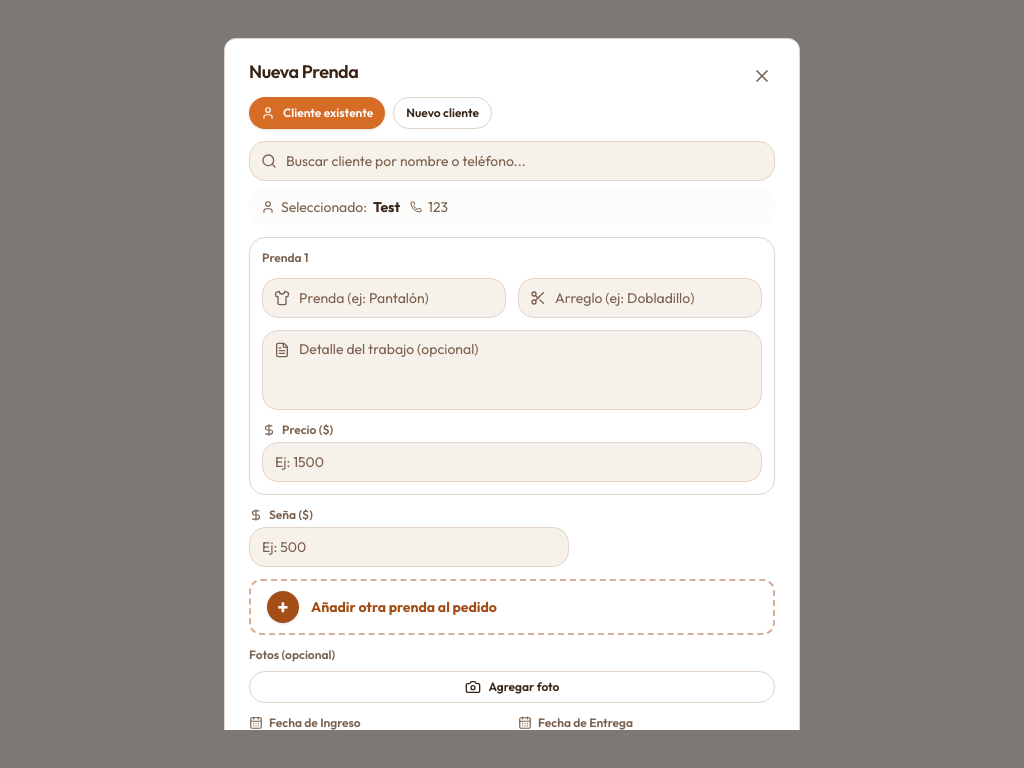
Test case: GarmentModal › [BUG3] sugerencias aparecen en la segunda prenda después de añadir prenda
The width and height of the screenshot is (1024, 768).
Note: Añadir segunda prenda
Click the button "+ Añadir otra prenda al pedido": [283, 607] box x1=249 y1=579 x2=775 y2=635
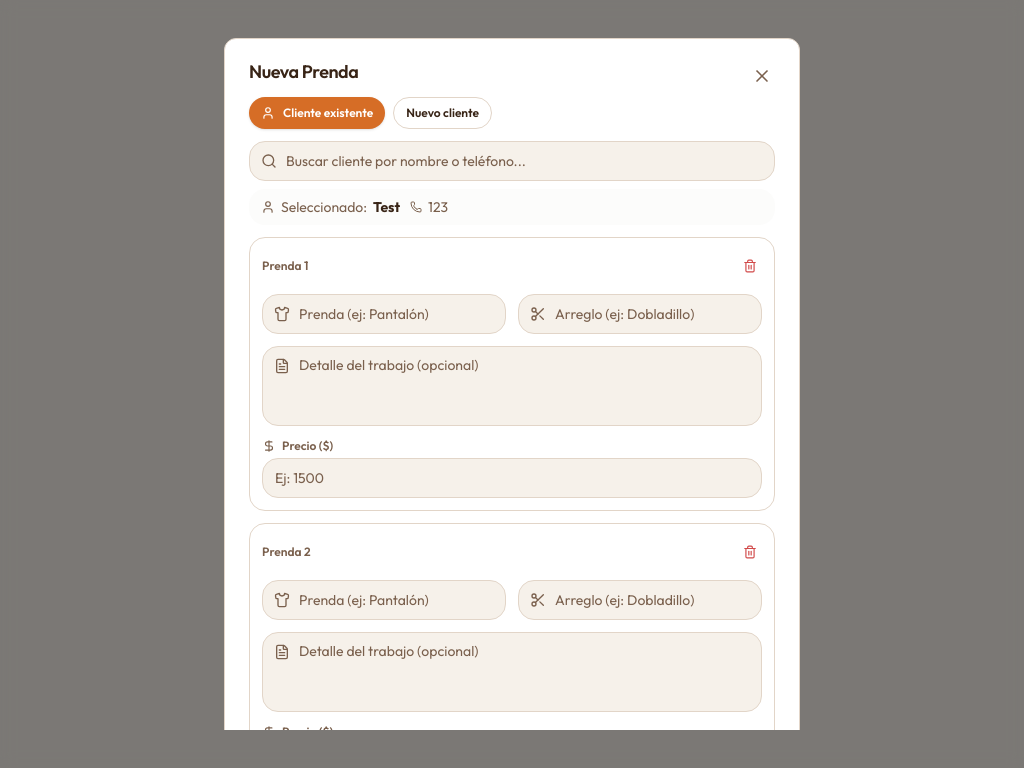
Result: the number of fields with placeholder "Prenda (ej: Pantalón)" is 2
In the 2nd field with placeholder "Prenda (ej: Pantalón)": [384, 600] box x1=262 y1=580 x2=506 y2=620, type "camisa"
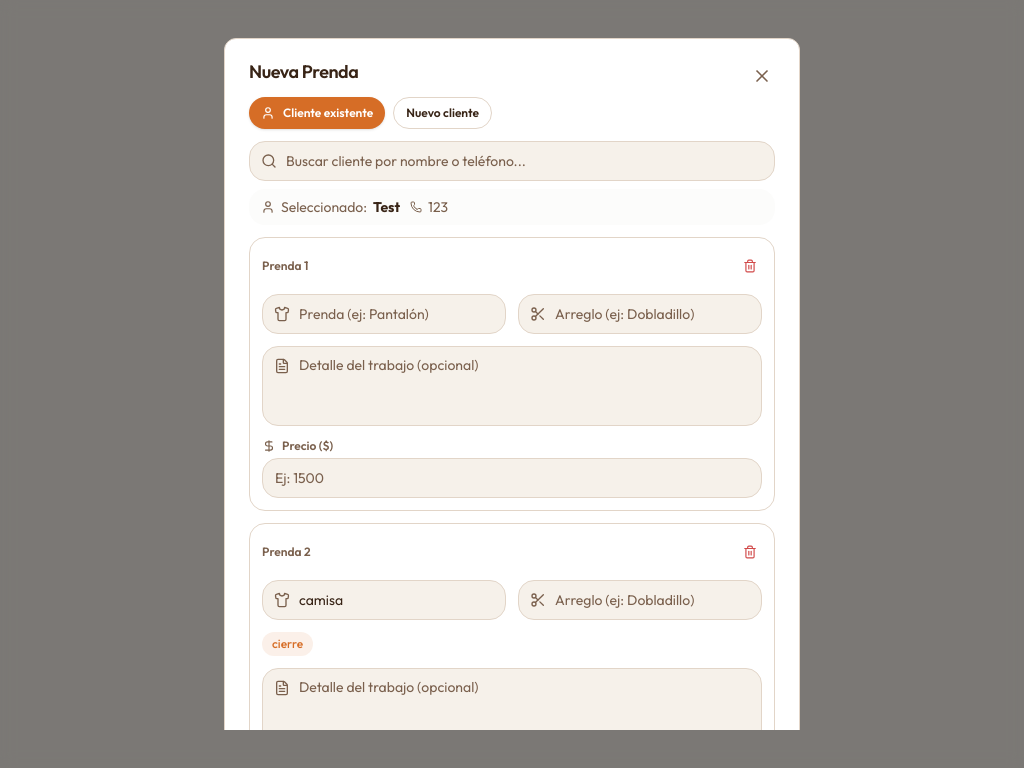
Result: the button "cierre" is shown at x1=262 y1=632 x2=313 y2=656
